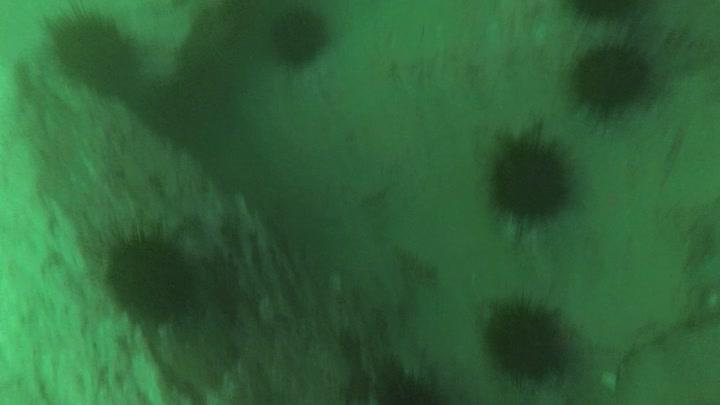urchin: (94, 232, 199, 317), (483, 132, 566, 235), (472, 292, 575, 375), (42, 21, 144, 99), (567, 43, 657, 118), (148, 77, 236, 139), (262, 13, 333, 80), (566, 3, 645, 22)
